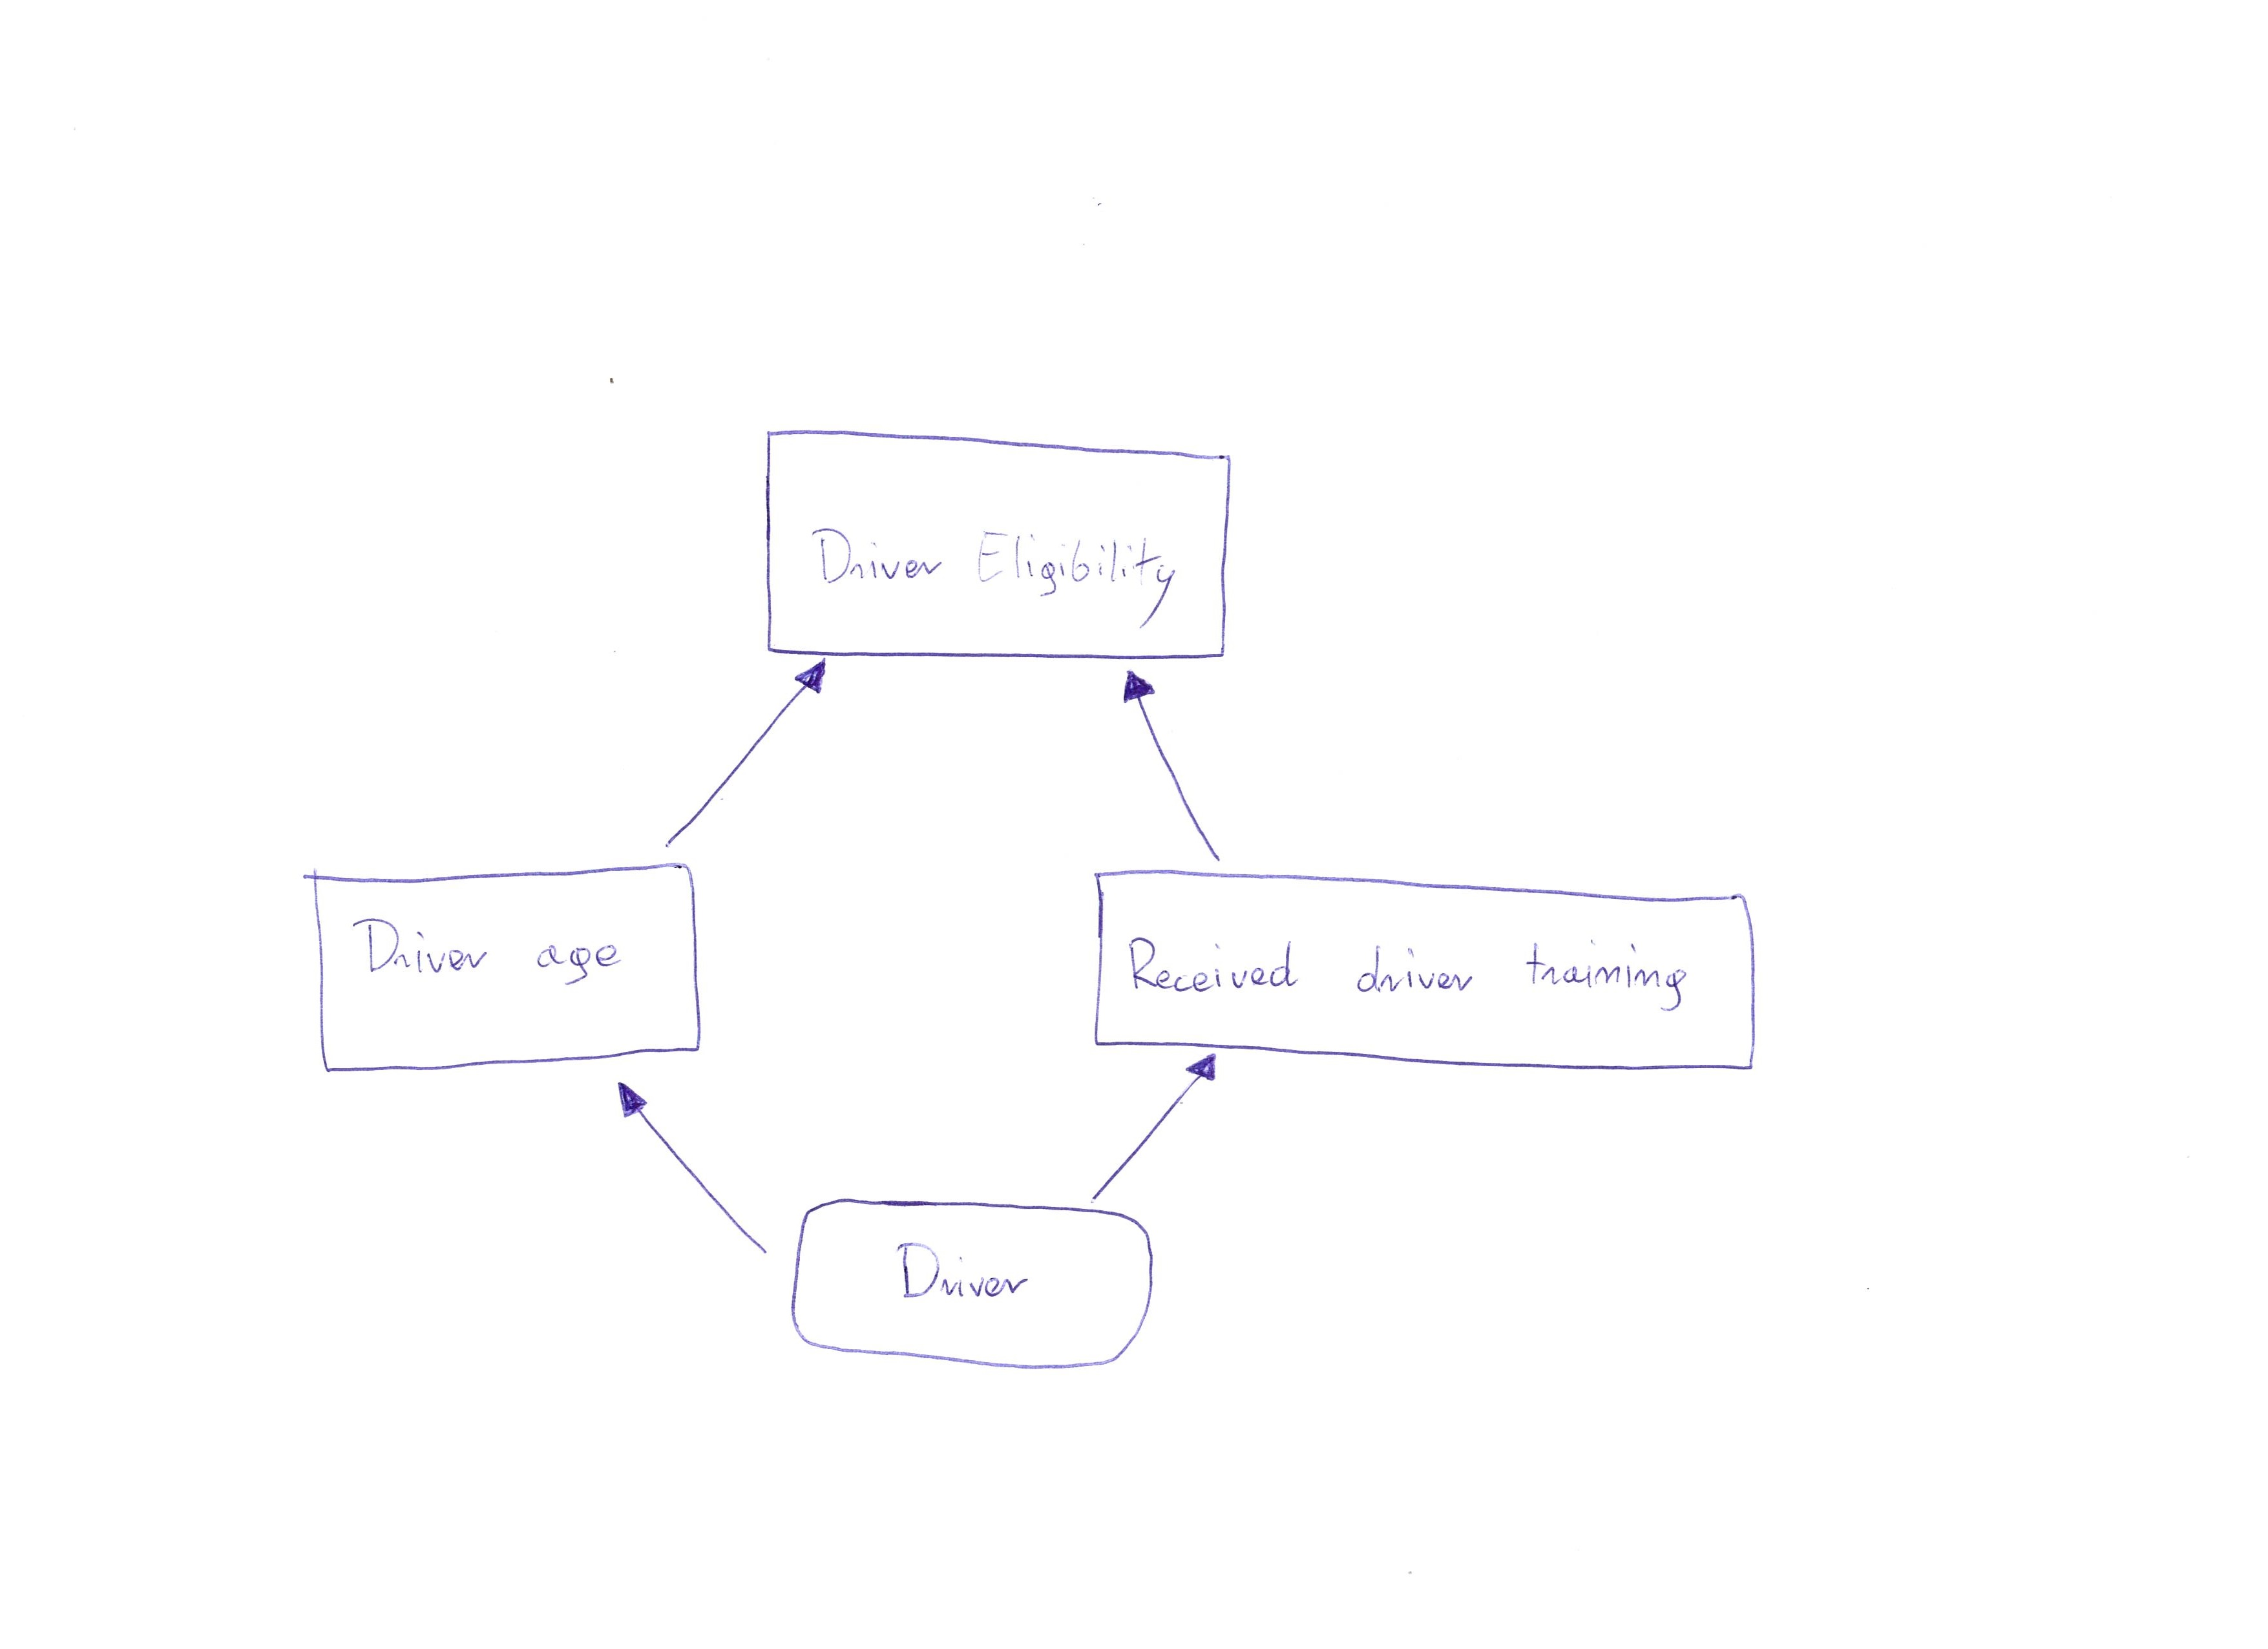arrow_information_requirement: (648, 657, 845, 853), (595, 1080, 777, 1265), (1102, 666, 1250, 869), (1074, 1052, 1229, 1205)
node_decision: (1079, 865, 1763, 1078), (761, 425, 1238, 664), (305, 854, 704, 1078)
node_input_data: (785, 1194, 1162, 1378)
text: (1120, 918, 1712, 1022), (801, 513, 1189, 634), (343, 902, 643, 1001), (886, 1231, 1042, 1316)
